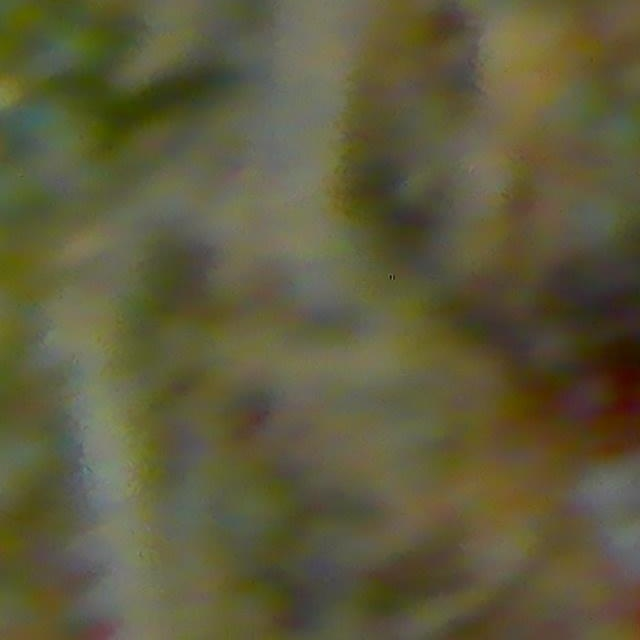SeaGrape: (522, 313, 588, 381), (570, 369, 620, 419)
